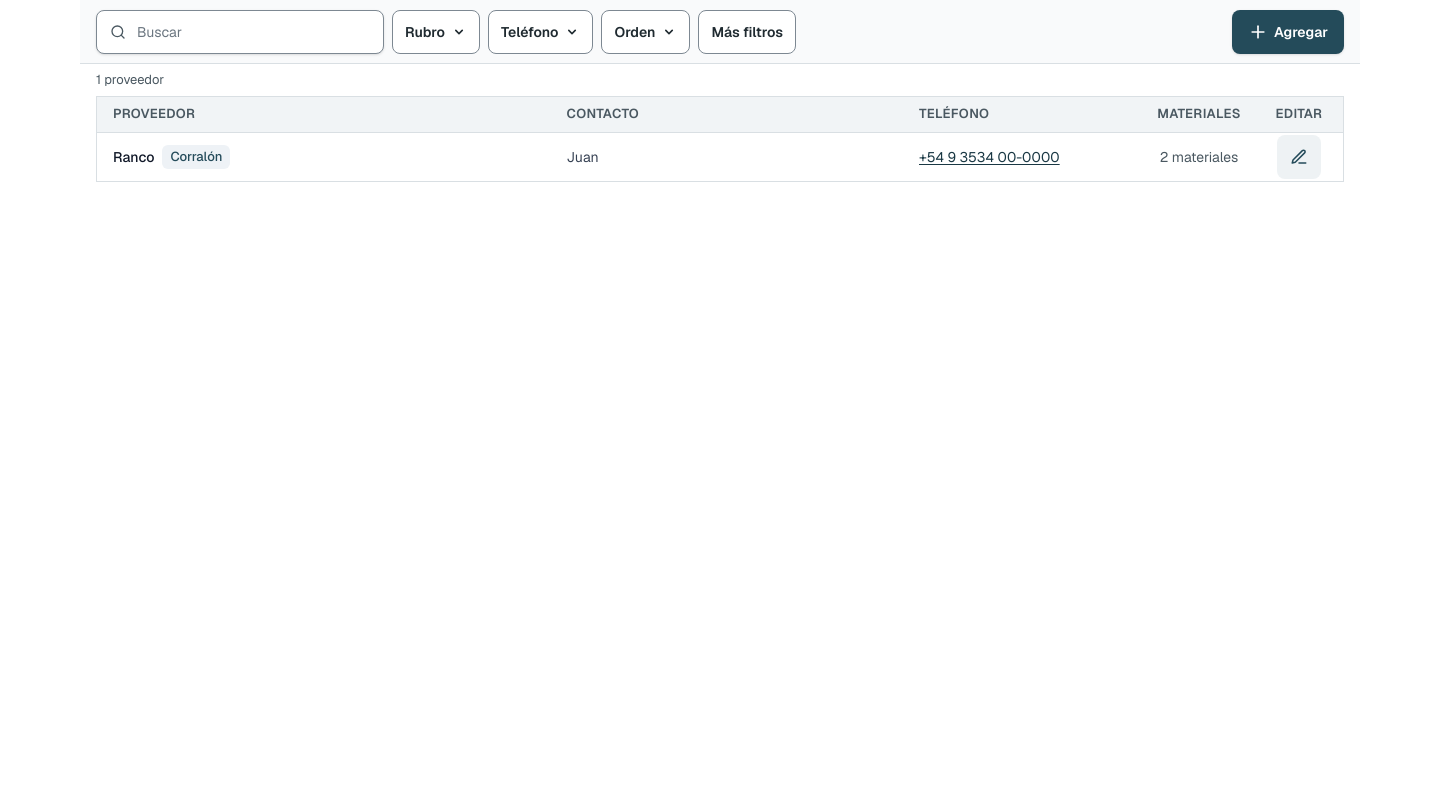
Test: Proveedores › no se puede eliminar un proveedor, y al editarlo se avisa que sus materiales siguen
The width and height of the screenshot is (1440, 810).
expect the text "Ranco" is shown: met, box [113, 146, 154, 166]
Step 1. Click the button named "Editar Ranco" → (1299, 156), box [1277, 134, 1321, 178]
(page scrolled)
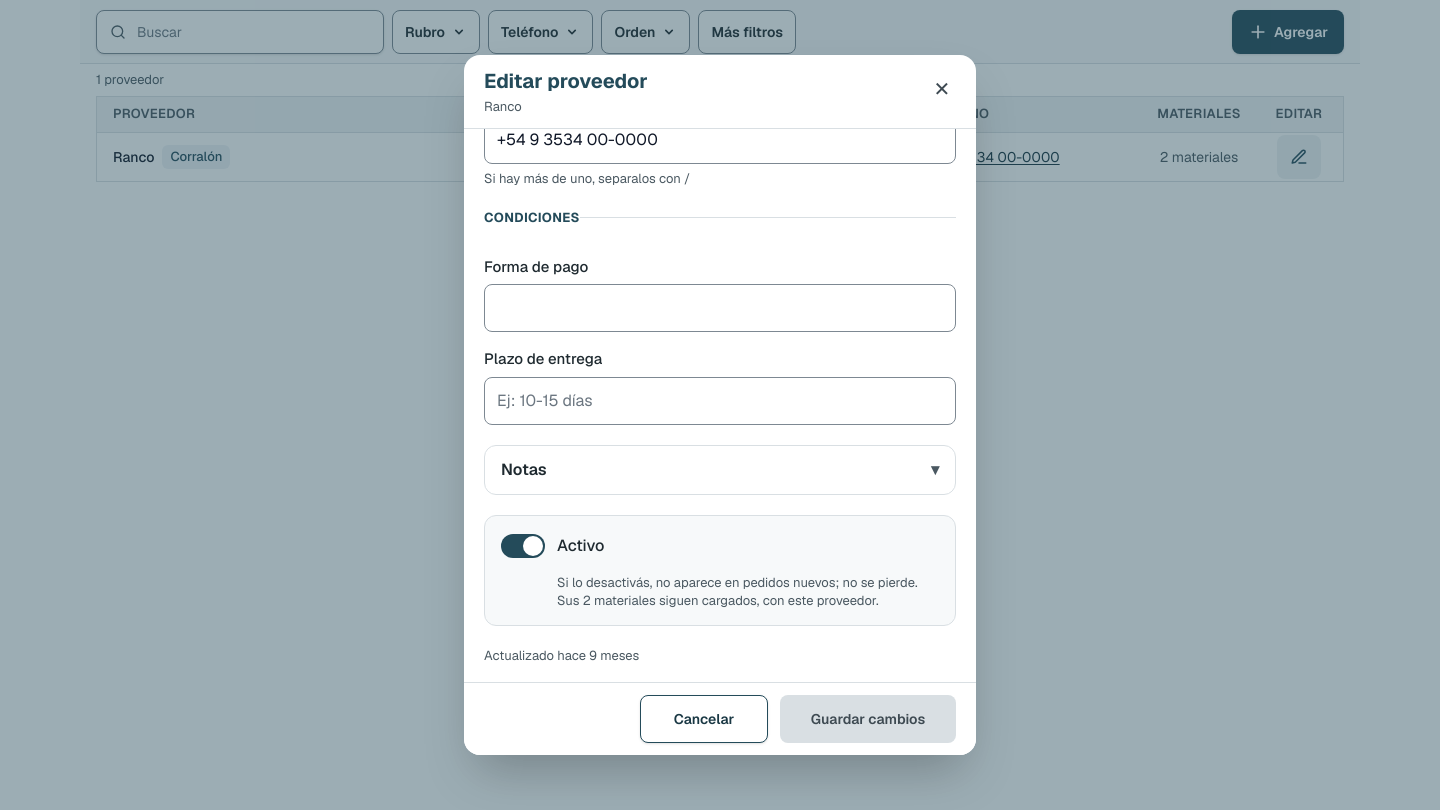
expect the switch labelled "Activo" is shown: met, box [501, 534, 604, 558]
expect the text "Sus 2 materiales siguen cargados, con este proveedor." is shown: met, box [557, 592, 878, 608]
